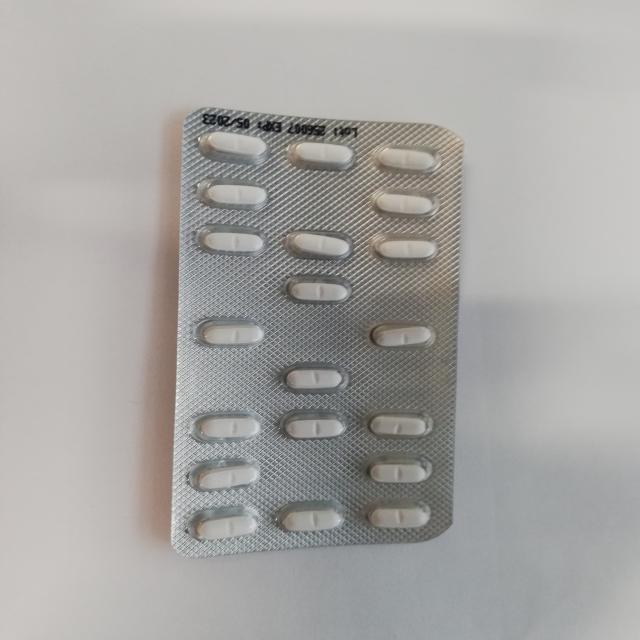Pill: (279, 132, 366, 179), (363, 139, 456, 182), (180, 508, 270, 549), (193, 124, 274, 168), (187, 226, 280, 264), (181, 408, 265, 449), (272, 502, 359, 540), (198, 176, 278, 217), (368, 319, 454, 357), (361, 408, 441, 448), (274, 358, 352, 399), (360, 185, 444, 222), (280, 227, 359, 266), (191, 315, 272, 353), (180, 460, 270, 493), (283, 275, 361, 313), (372, 229, 454, 265), (364, 453, 442, 490), (280, 408, 356, 442), (365, 503, 439, 537)
